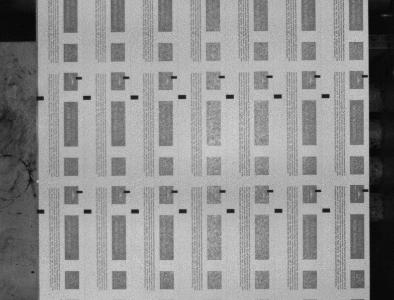backgroundclutter: (31, 270, 35, 273), (36, 180, 40, 183), (11, 294, 14, 297)
qblock: (178, 94, 187, 99), (84, 209, 92, 214), (275, 208, 283, 213), (37, 209, 45, 214), (226, 94, 234, 99), (83, 95, 91, 100), (130, 95, 139, 99), (131, 209, 139, 213), (323, 208, 331, 212), (179, 209, 187, 213), (227, 209, 235, 213), (274, 94, 282, 98), (322, 94, 330, 98), (36, 96, 44, 100)
smallqblock: (267, 189, 274, 193), (76, 76, 82, 80), (219, 75, 225, 79), (123, 76, 130, 79), (315, 189, 322, 192), (171, 76, 178, 79), (76, 190, 83, 193), (363, 75, 369, 78), (363, 189, 369, 192), (315, 75, 321, 78), (124, 190, 130, 193), (220, 190, 226, 193), (267, 75, 273, 78), (172, 190, 178, 193)
